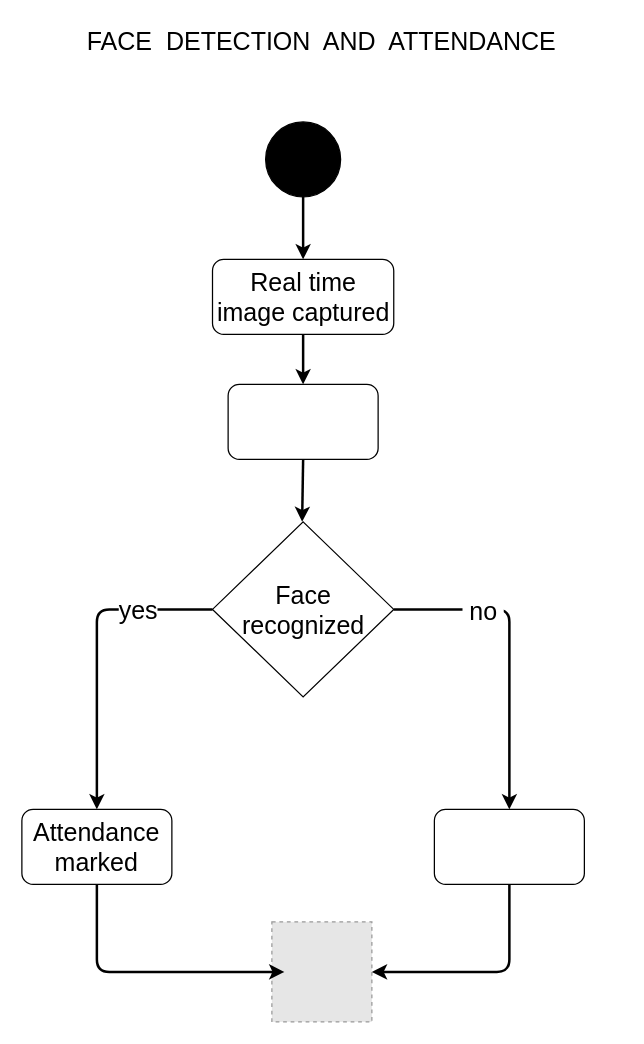
This 644x1044 diagram has some shape labels left out. Grey dashed boxes stand in for pictures. Each missing label, with the box of its shape:
Detect faces highlighed: (227, 383, 378, 459)
No face recognized: (433, 808, 584, 884)
